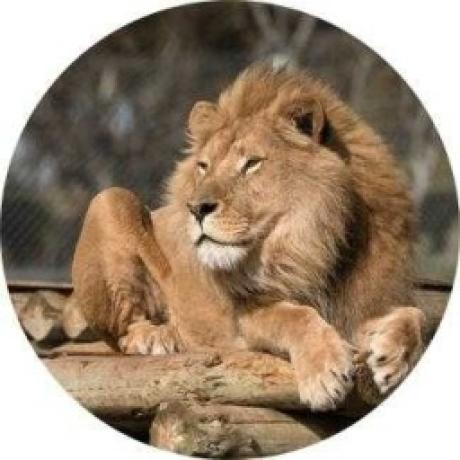Lion: (69, 58, 429, 410)
